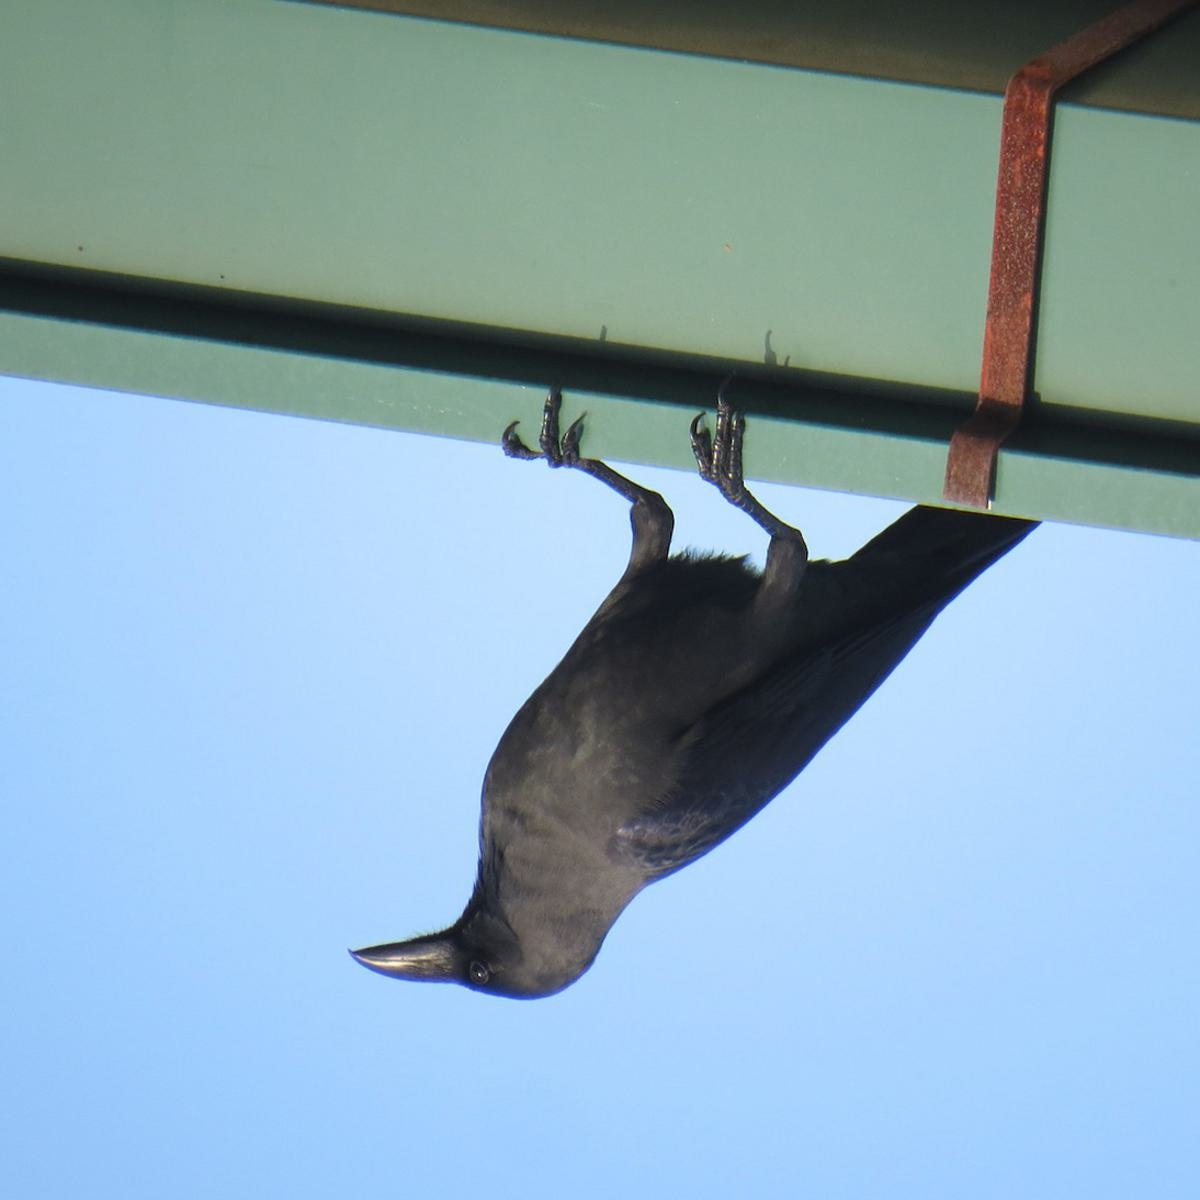crow: (340, 346, 1055, 1022)
